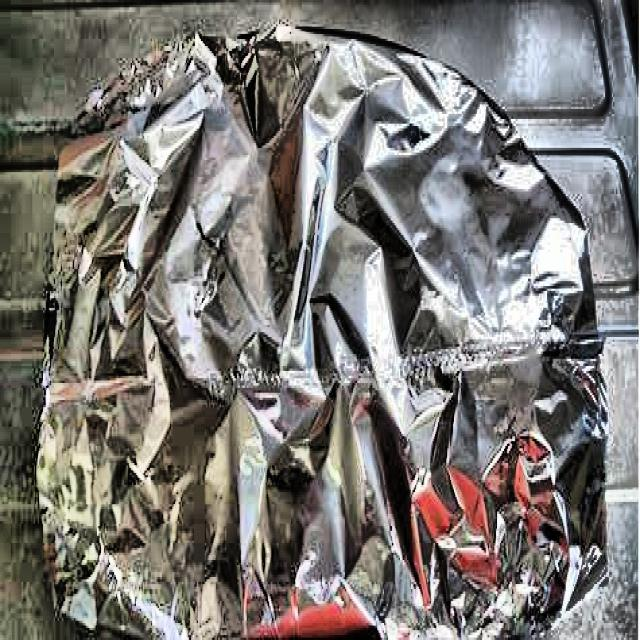Foil: (27, 16, 611, 640)
